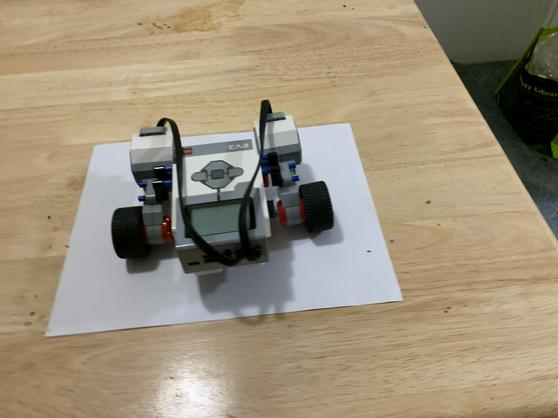robot: (103, 102, 354, 280)
